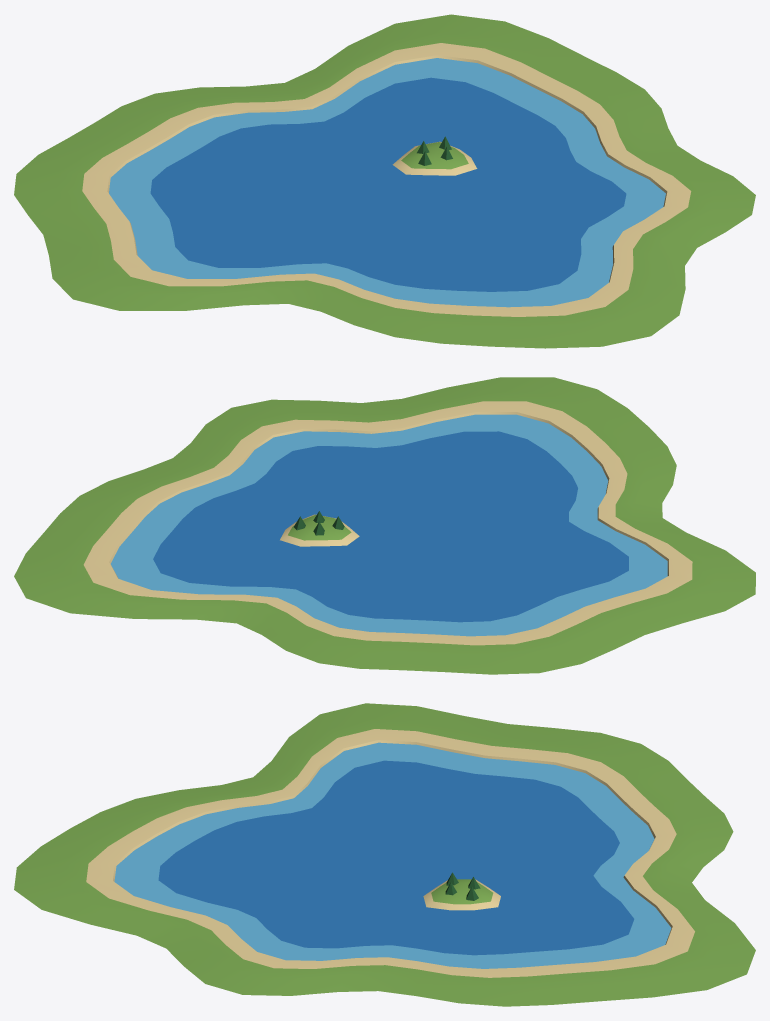
The model's file is lake.glb.
3 renders of one model, top to bottom at view 1: azimuth 30°, elevation 25°; view 2: azimuth 150°, elevation 25°; view 3: azimuth 270°, elevation 25°, orthographic. The views are drawn at different scales.
Visible parts, largest first — view 1: body; view 2: body; view 3: body.
Part boxes in pixels (x1,y1,x2,y2): body: [14, 14, 755, 348]; body: [14, 377, 755, 674]; body: [14, 703, 755, 1006].
Size of the model in its own units: 222 by 6.2 by 229.
